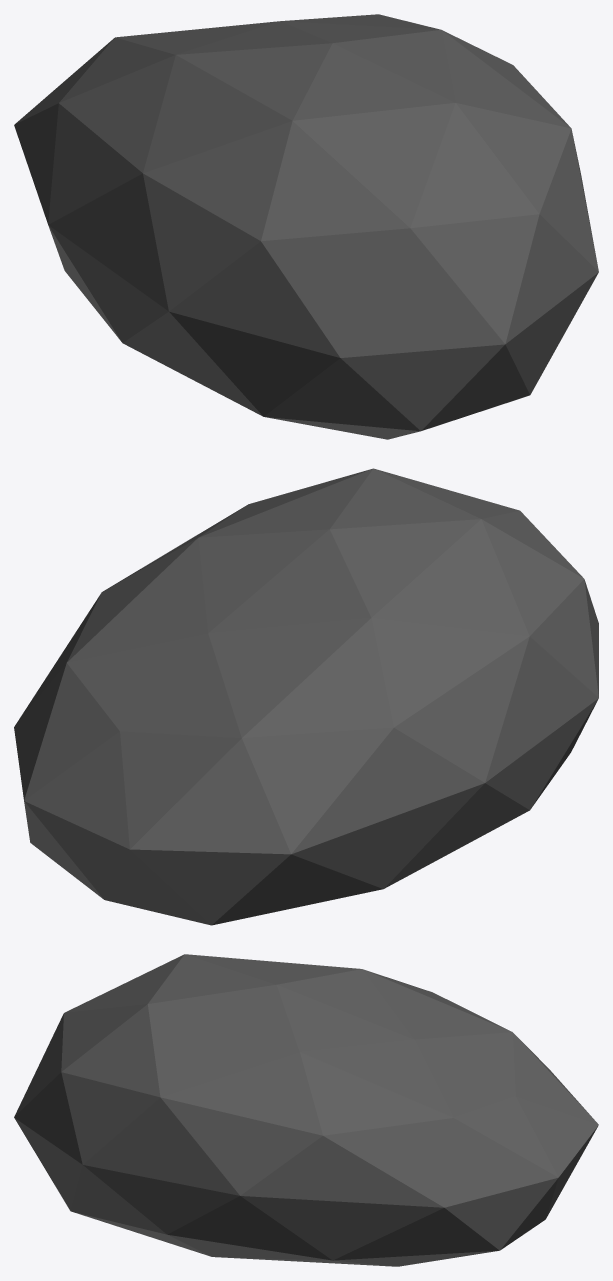
File: Model_Kamien1.fbx
3 renders of one model, top to bottom at view 1: azimuth 30°, elevation 25°; view 2: azimuth 150°, elevation 25°; view 3: azimuth 270°, elevation 25°, orthographic. The views are drawn at different scales.
Parts seen in each view (by area): view 1: Icosphere; view 2: Icosphere; view 3: Icosphere.
Boxes of the visible parts, x1=… form: Icosphere: x1=14, y1=14, x2=598, y2=439; Icosphere: x1=14, y1=468, x2=598, y2=925; Icosphere: x1=14, y1=954, x2=598, y2=1266.
Bounding box in the file's own units: 49.29 × 23.43 × 33.21.
